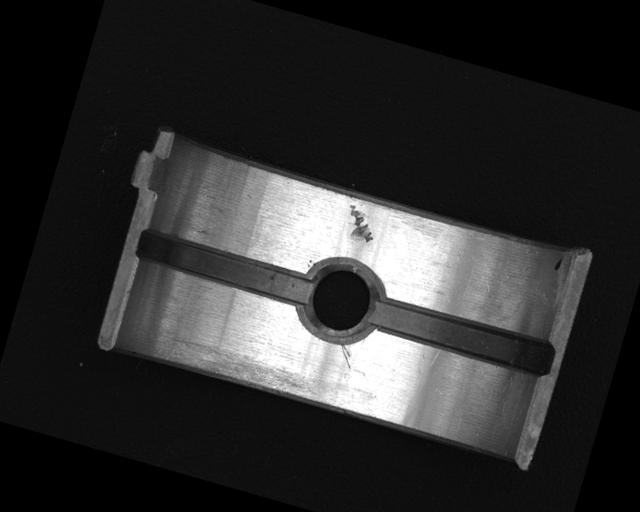blot: (551, 254, 566, 274)
bruise: (338, 202, 381, 248)
gap: (364, 293, 556, 379), (132, 227, 315, 309)
hole: (290, 252, 388, 350)
nick: (335, 342, 356, 368)
scratch: (154, 328, 322, 407)
